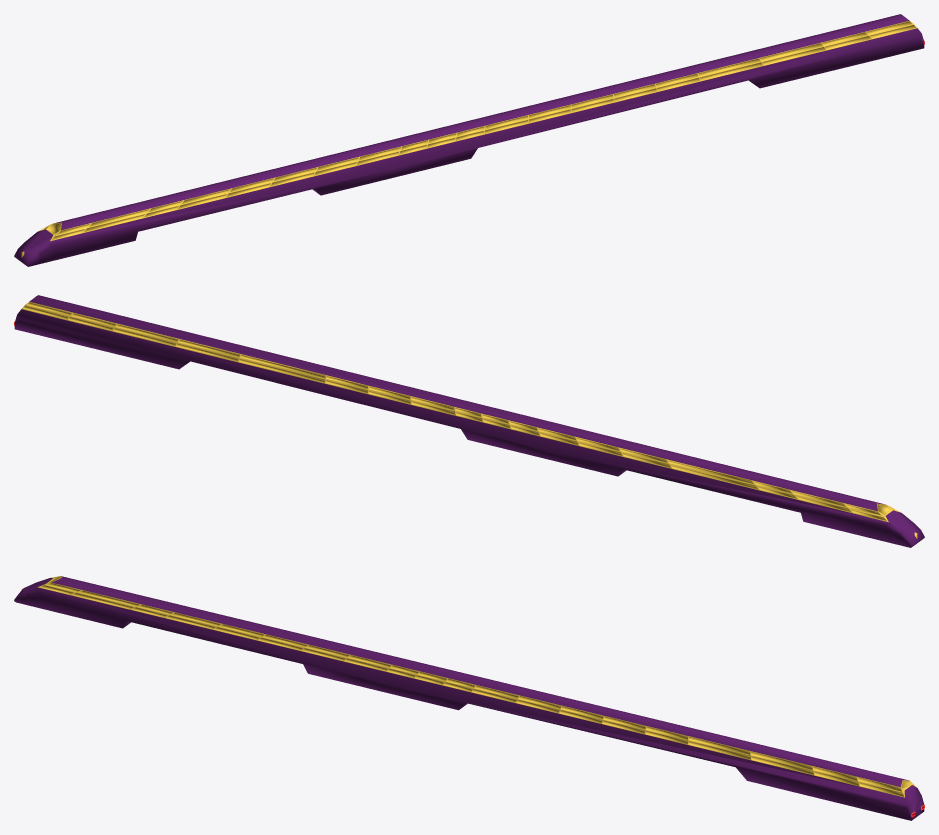
File: TRAIN.fbx
3 views of the same model, one above another, from view 1: azimuth 30°, elevation 25°; view 2: azimuth 150°, elevation 25°; view 3: azimuth 330°, elevation 25° (orthographic).
Parts seen in each view (by area): view 1: Cube; view 2: Cube; view 3: Cube.
Part boxes in pixels (bbox=[...]): Cube: bbox=[14, 14, 924, 266]; Cube: bbox=[14, 295, 924, 547]; Cube: bbox=[14, 576, 924, 820].
Size of the model in its own units: 82466 by 2822 by 2039.
